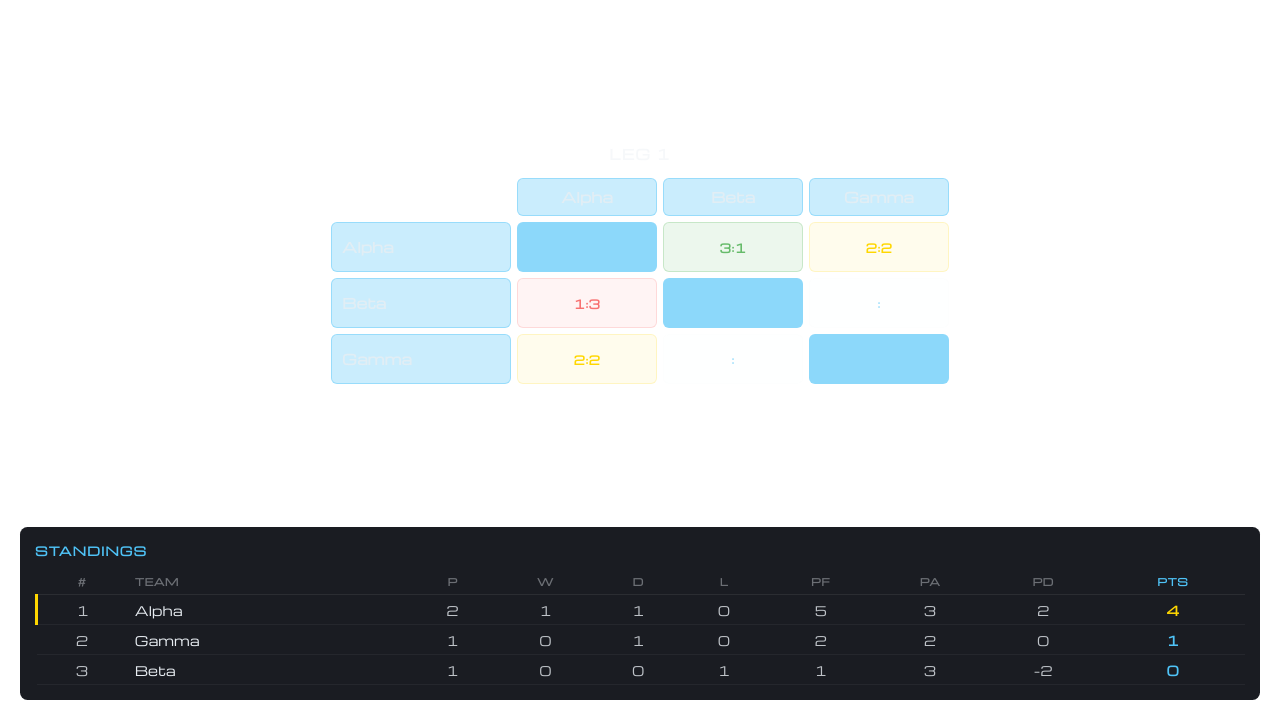
Test: RoundRobinTable › closes the ChangeScore modal when Cancel is clicked
Click the text "3:1" at coordinates (733, 247), box [720,238,746,256]
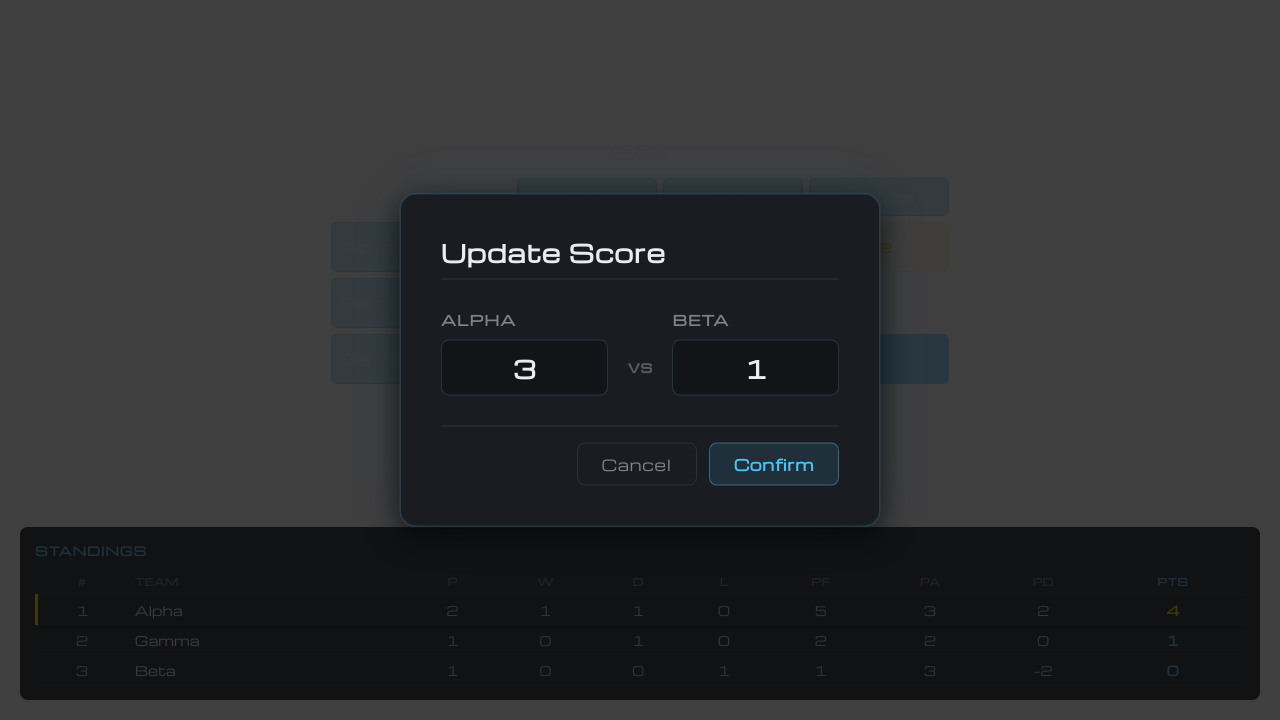
Click the button "Cancel" at coordinates (637, 464), box [577,442,697,486]
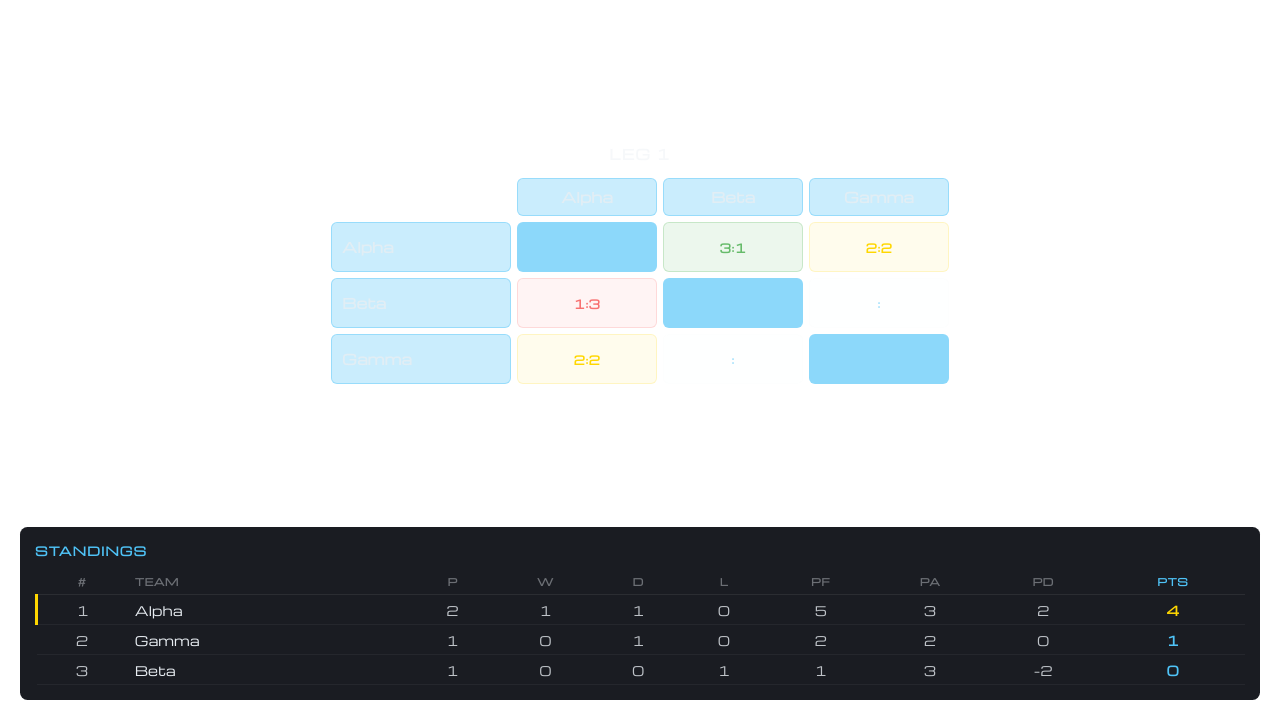
Check: the heading "Update Score" is gone
